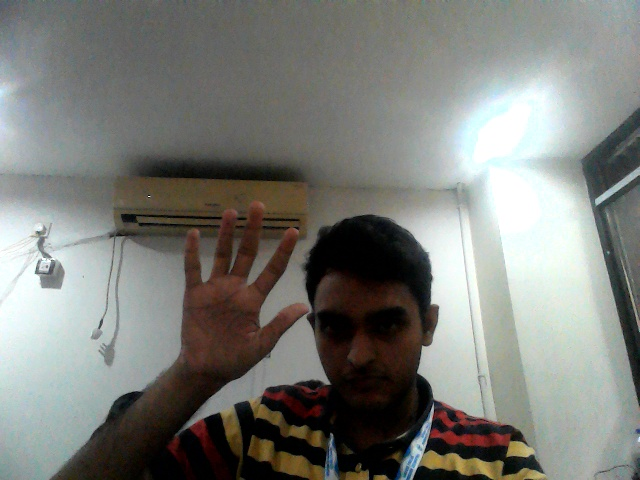palm: (175, 197, 310, 375)
